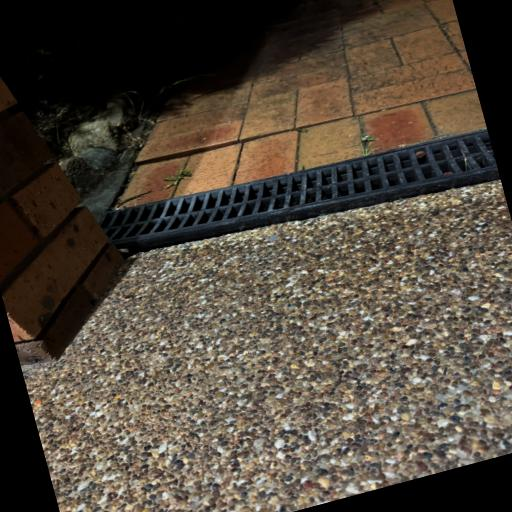gutter: (101, 129, 500, 251)
